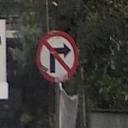NoVirarDireita: (34, 27, 80, 85)
